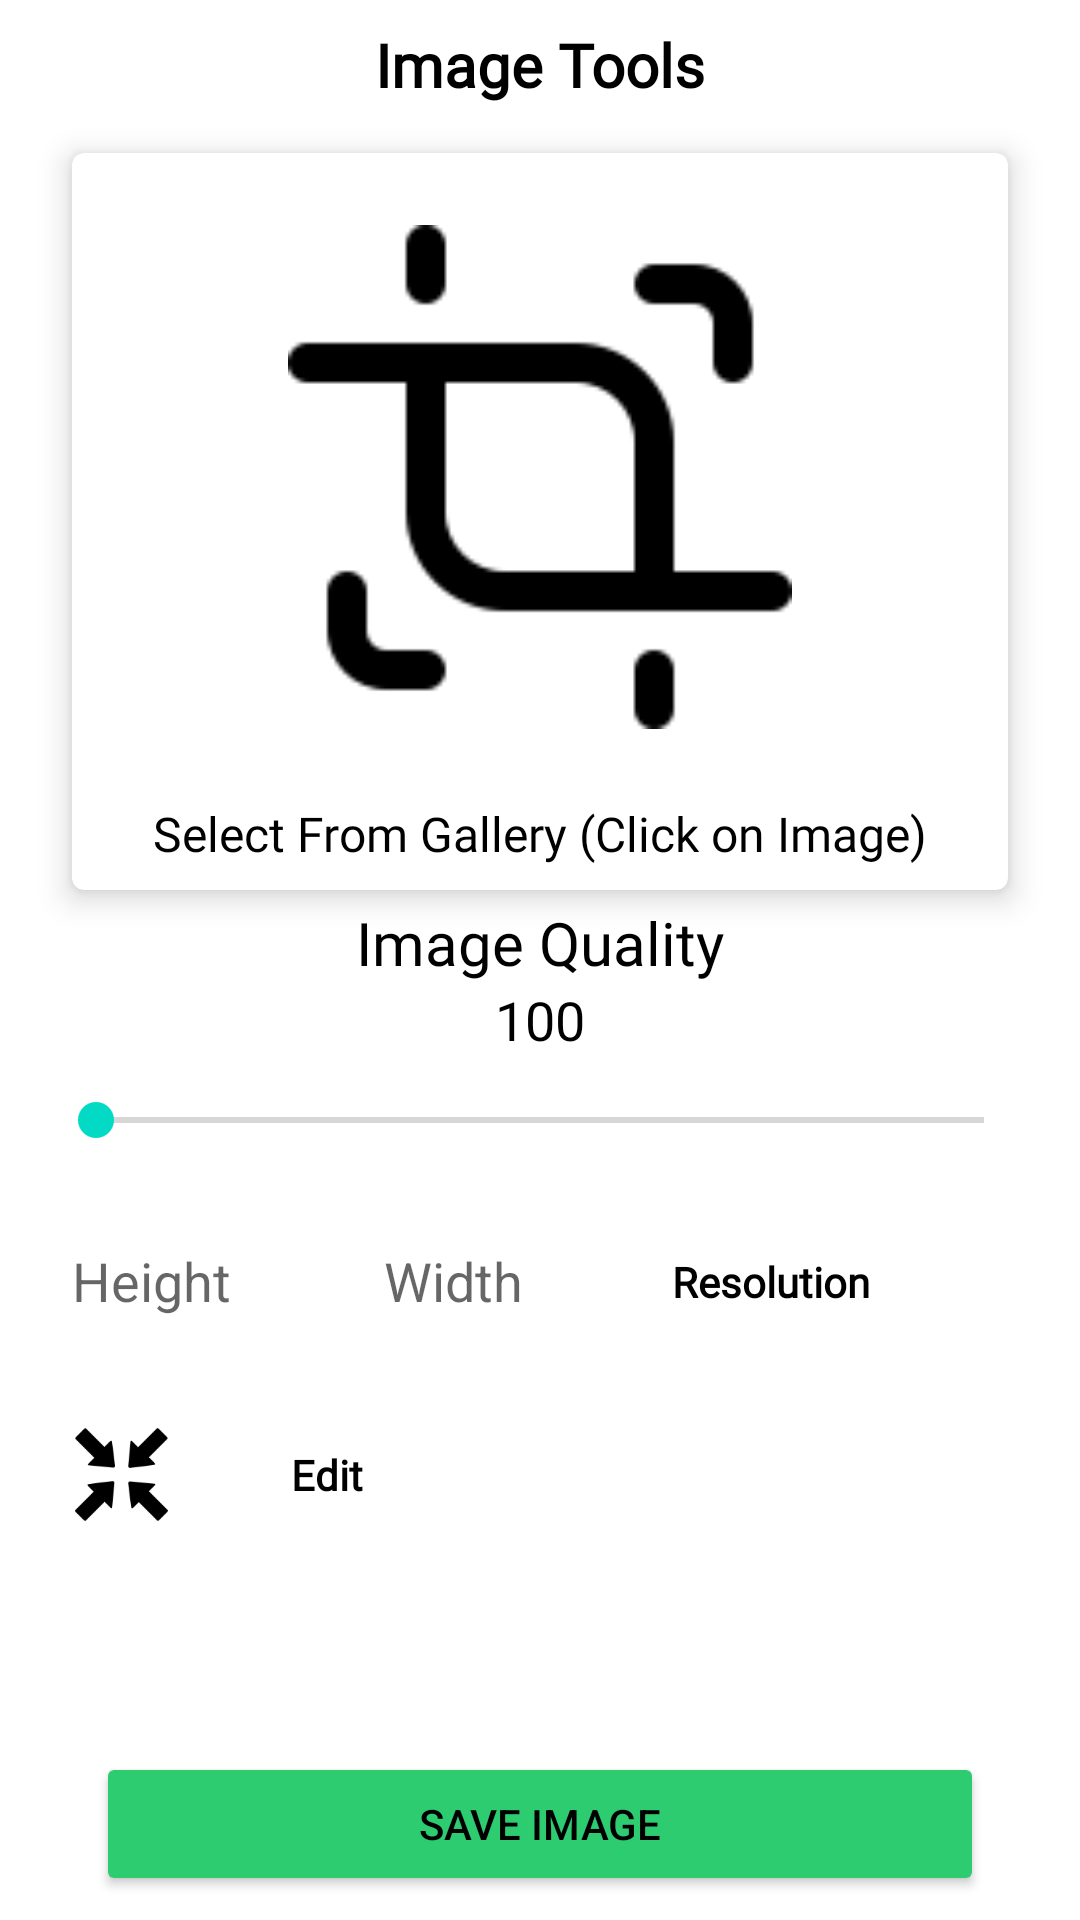

Screen size 1080x1920. Icon name, then its box in pixels as (x1, y1, x2, y2):
reduce: (75, 1428, 168, 1521)
